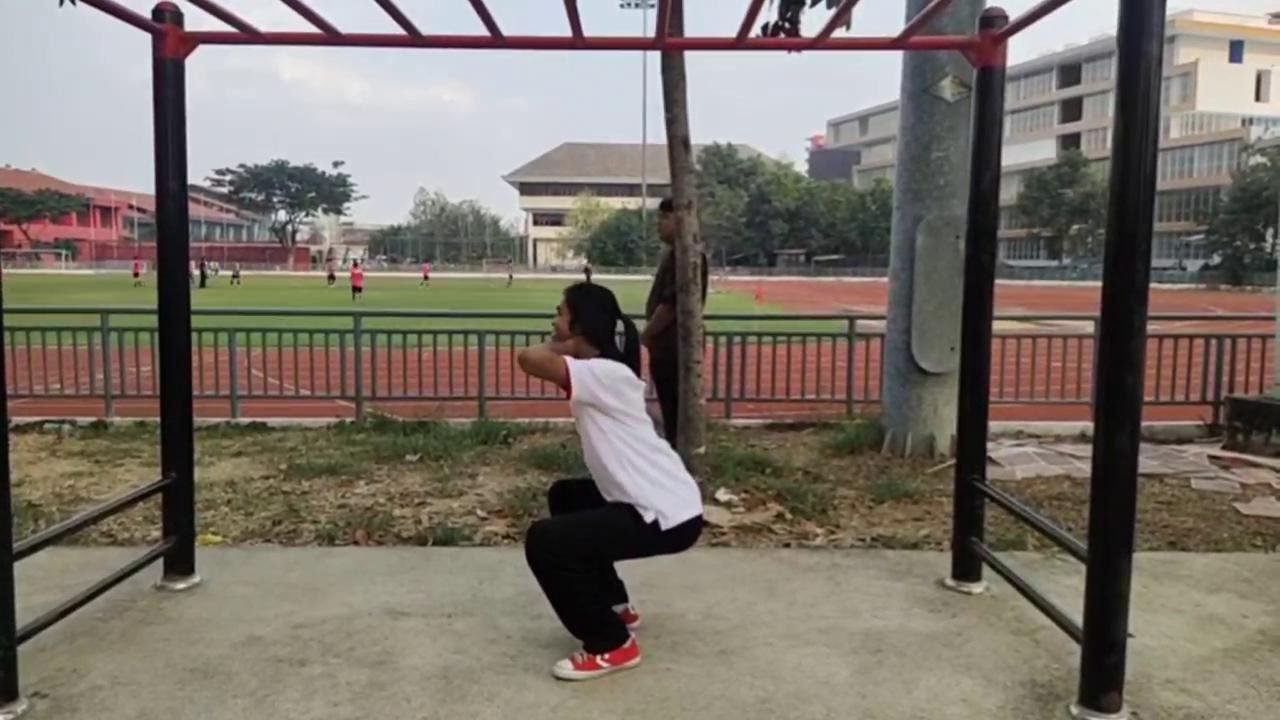squat down: (520, 282, 703, 682)
